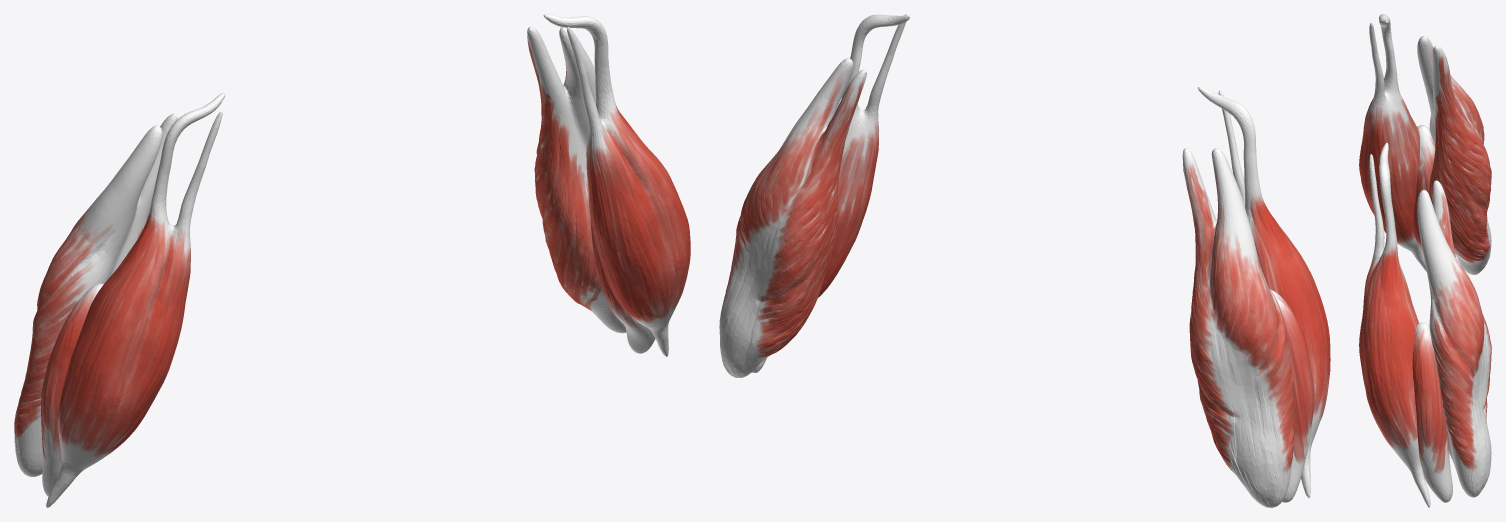
Rendered from SubTool-7-6894909.OBJ.
3 views of the same model, side by side, from view 1: azimuth 30°, elevation 25°; view 2: azimuth 150°, elevation 25°; view 3: azimuth 270°, elevation 25° (orthographic). The views are drawn at different scales.
Visible parts, largest first — view 1: Group11546; view 2: Group11546; view 3: Group11546.
Part boxes in pixels (<box>): Group11546: <box>14,14,690,507</box>; Group11546: <box>719,14,1330,507</box>; Group11546: <box>1359,14,1491,507</box>.
Bounding box in the file's own units: 22.15 × 13.4 × 5.22.
1 material, 1 textured.
